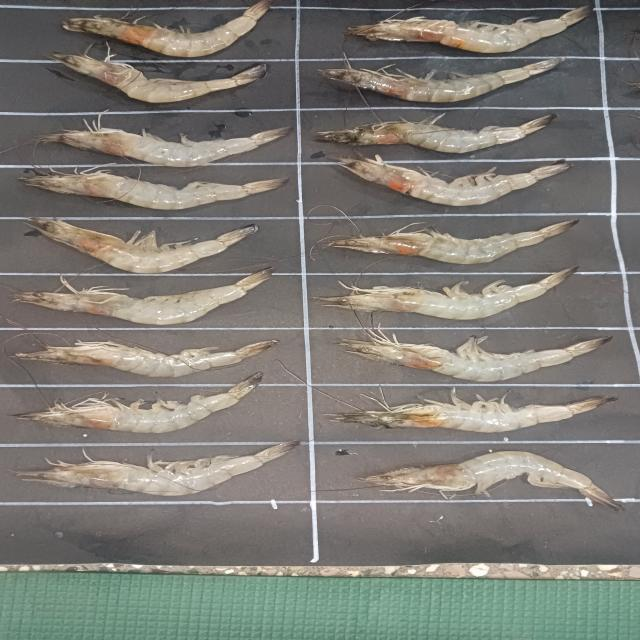shrimp: (18, 441, 299, 496), (363, 451, 622, 510), (13, 372, 263, 432), (13, 269, 272, 325), (317, 266, 578, 320), (341, 330, 611, 381), (29, 218, 257, 272), (35, 120, 290, 168), (62, 0, 272, 58), (330, 390, 615, 432), (339, 155, 569, 206), (348, 6, 593, 52), (18, 170, 288, 210), (319, 58, 564, 102), (328, 221, 578, 264), (51, 54, 266, 102), (15, 340, 279, 378), (314, 114, 556, 152)
